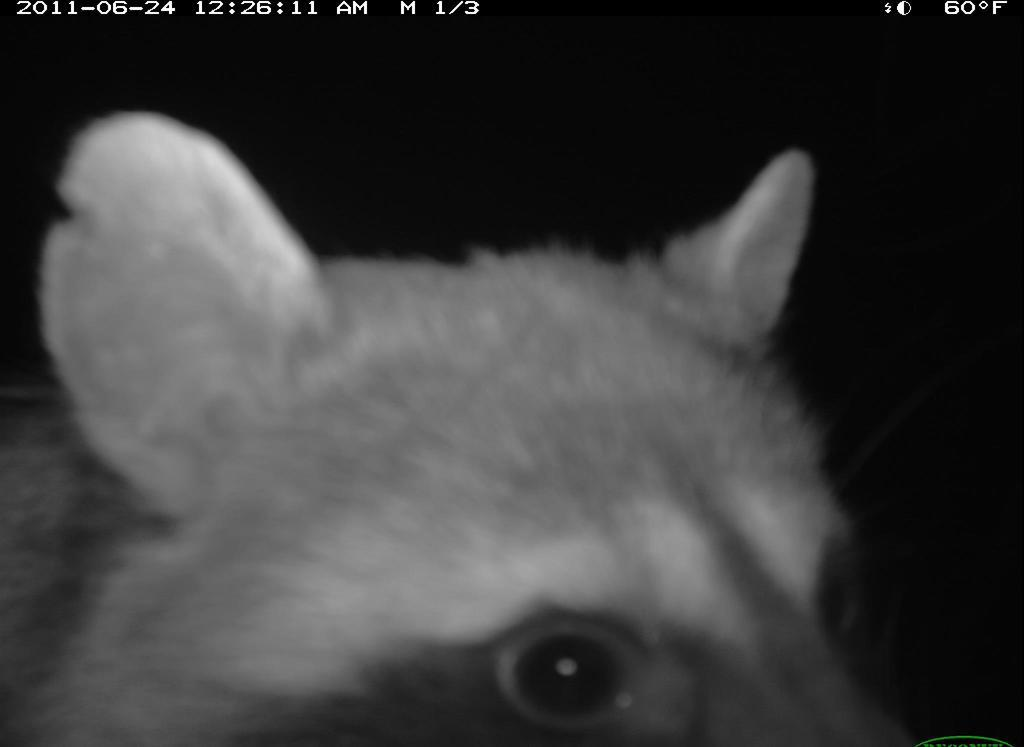raccoon: (4, 99, 936, 744)
